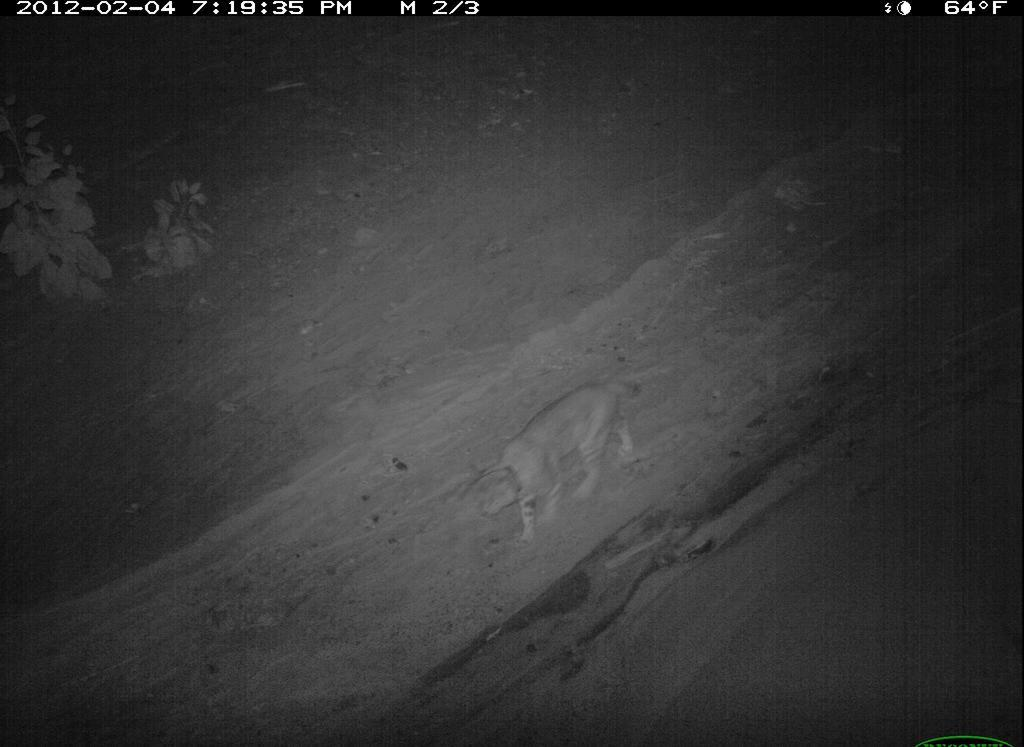bobcat: (937, 740, 1024, 747)
